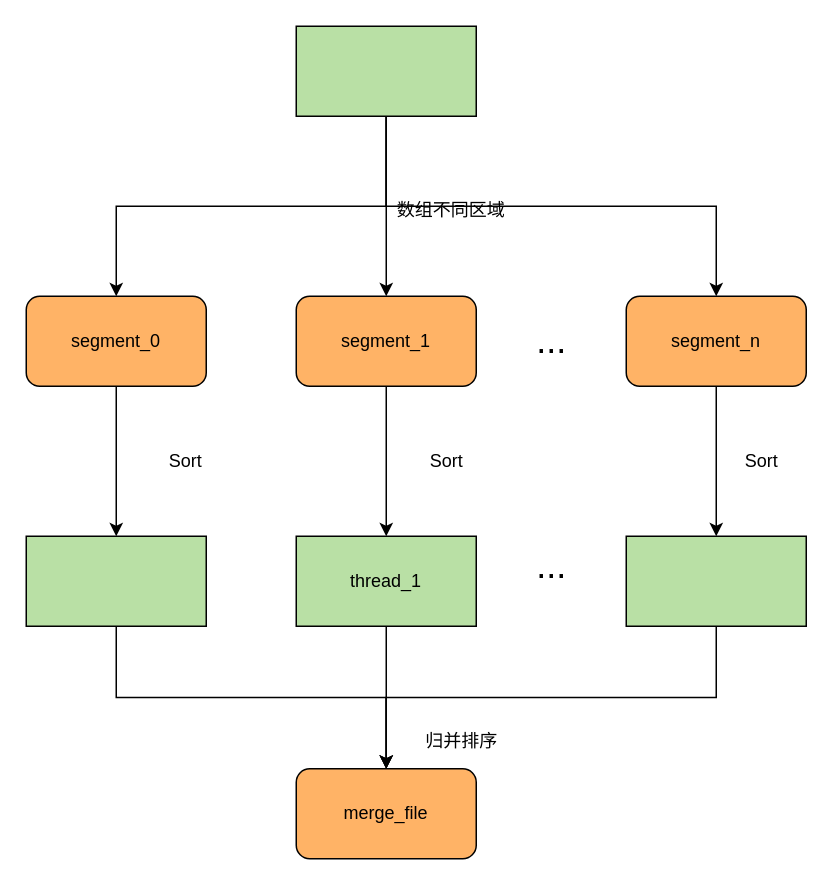
The diagram is 833 pixels wide and 885 high, and some of its shapes have lost their labels. Here are the shapes that lost their labels. From the top down, the centre of each, then its label:
pixel 385 70: Main
pixel 115 580: thread_0
pixel 715 580: thread_n
